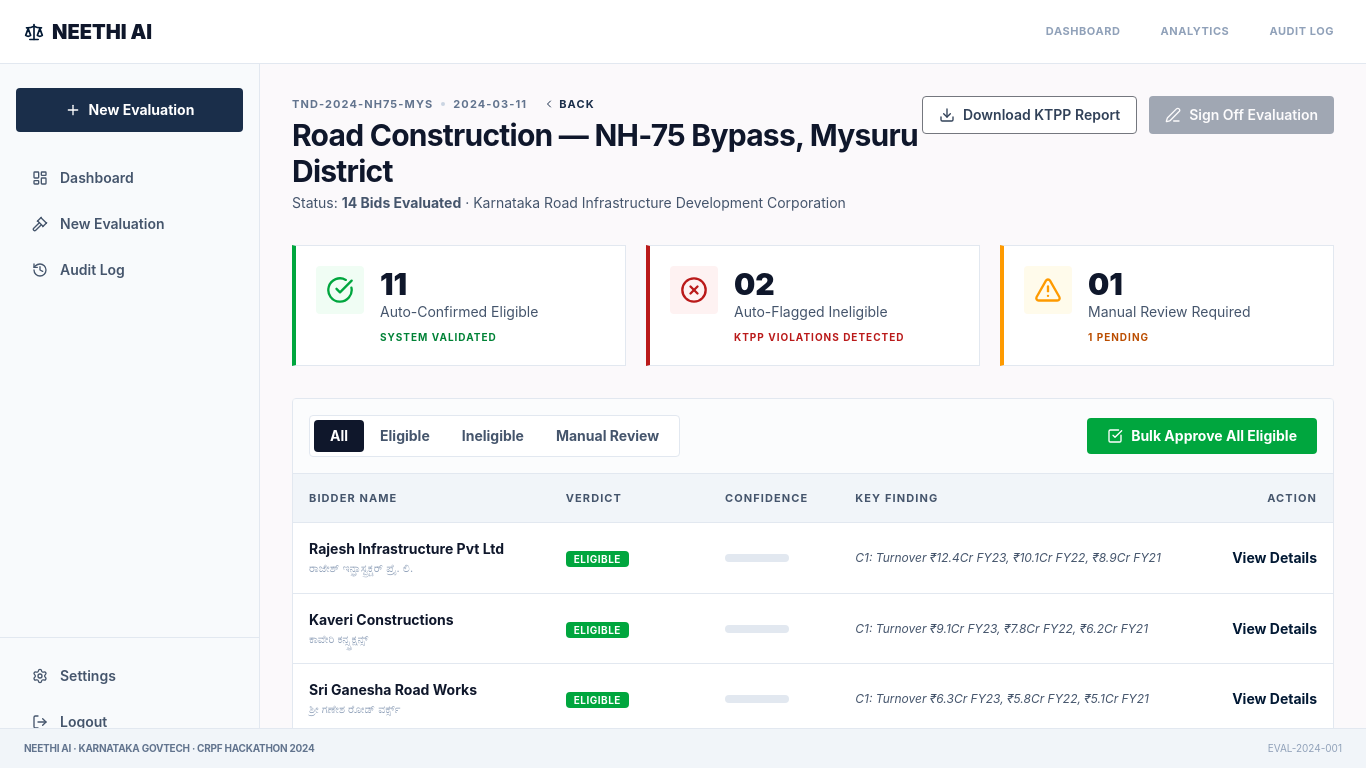
it: VerdictDashboard — mockData mode › filter Eligible shows 11 of 14 bidders
Click the button "Eligible".
click(405, 436)  # box [364, 420, 446, 452]
(page scrolled)
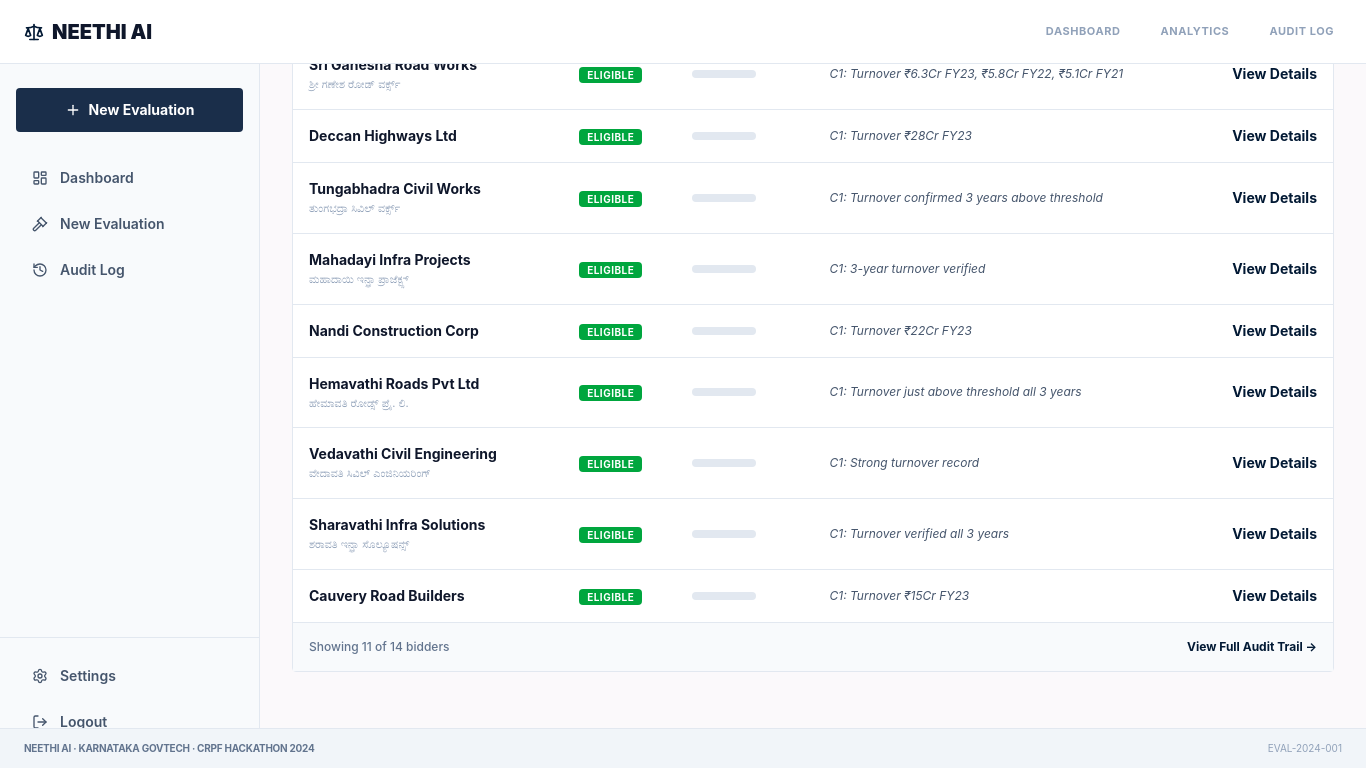
Check: the text "Showing 11 of 14 bidders" is shown, box [309, 639, 450, 655]
